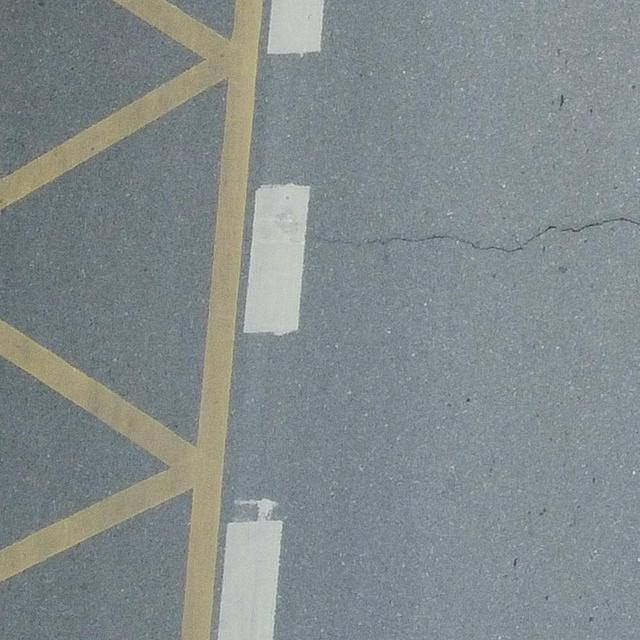TransverseCrack: (315, 215, 640, 256)
